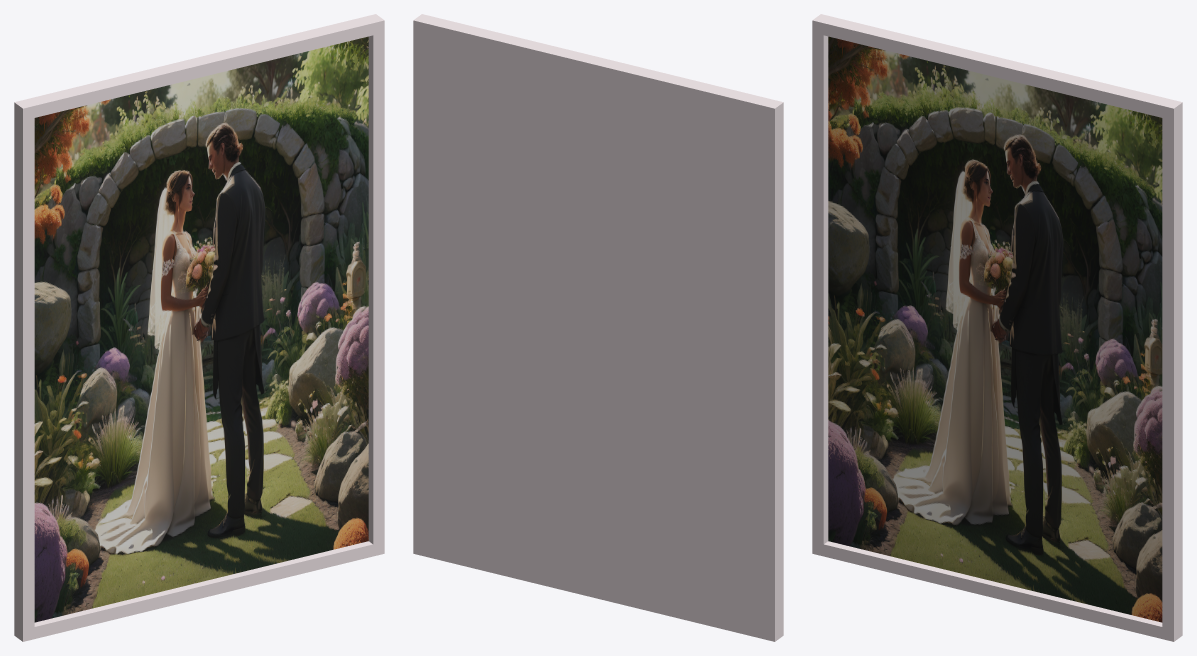
The model's file is Frame.fbx.
3 renders of one model, left to right at view 1: azimuth 30°, elevation 25°; view 2: azimuth 150°, elevation 25°; view 3: azimuth 330°, elevation 25°, orthographic.
Parts seen in each view (by area): view 1: Cube; view 2: Cube; view 3: Cube.
Boxes of the visible parts, x1,y1,x2,y2 form: Cube: [14, 14, 384, 641]; Cube: [413, 14, 783, 641]; Cube: [812, 14, 1182, 641].
Bounding box in the file's own units: 142 × 200 × 5.98.
2 materials, 1 textured.
